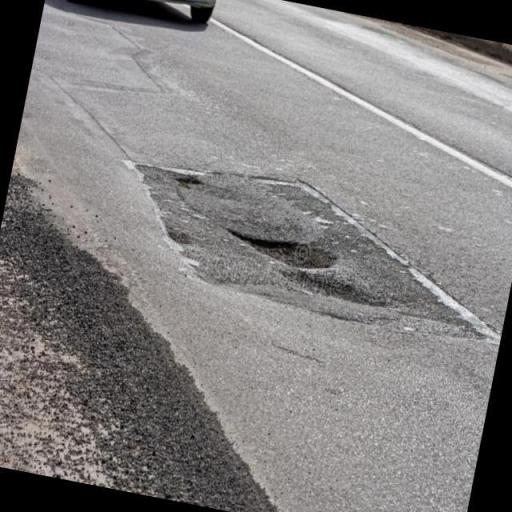pothole: (167, 150, 512, 447), (157, 143, 494, 407)
